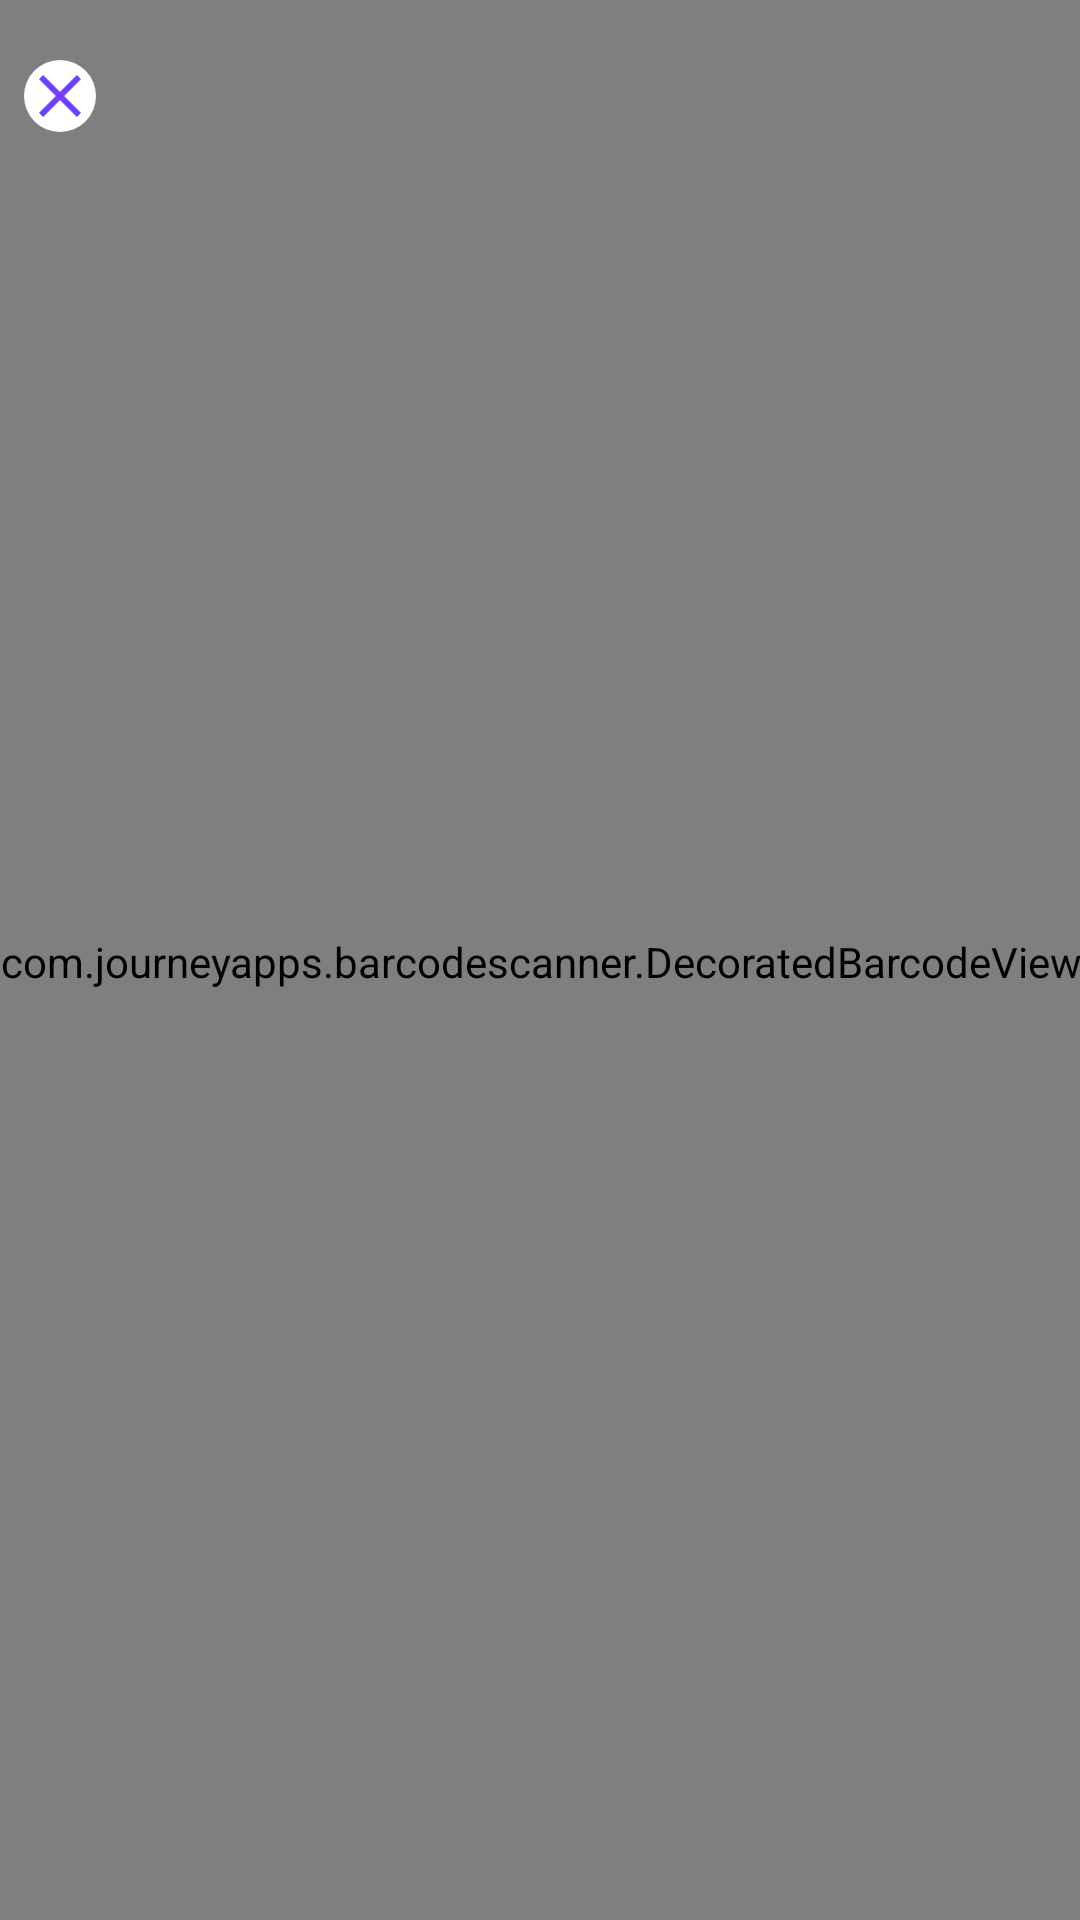

Point at icon controls on the screen. Image size 1080w x 1920h, points as (x=x, y=y).
close: (x=60, y=96)
